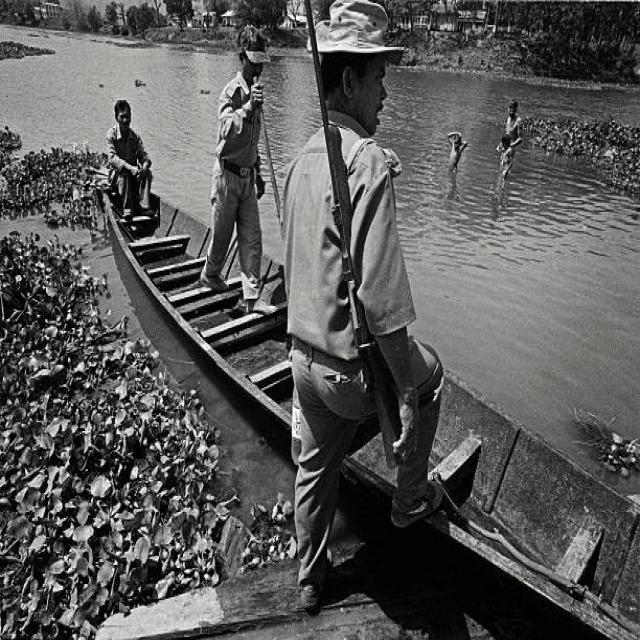poacher: (266, 1, 424, 615), (198, 22, 282, 305), (109, 96, 155, 218)
weapon: (322, 11, 366, 476)
